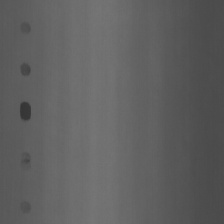oil_spot: (19, 99, 32, 124), (17, 152, 32, 172), (19, 60, 32, 78), (19, 196, 31, 215), (19, 21, 30, 35)
